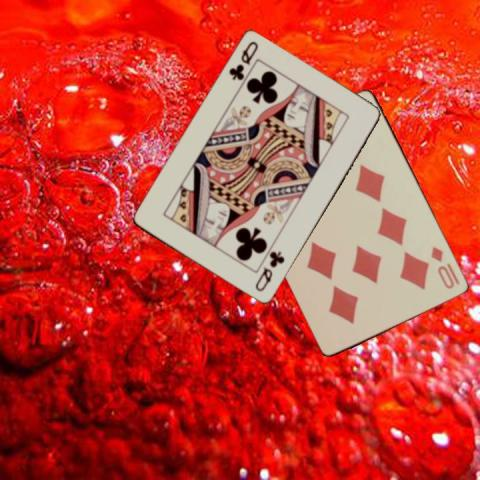10d: (428, 243, 462, 291)
Qc: (252, 249, 287, 293), (226, 38, 260, 83)
